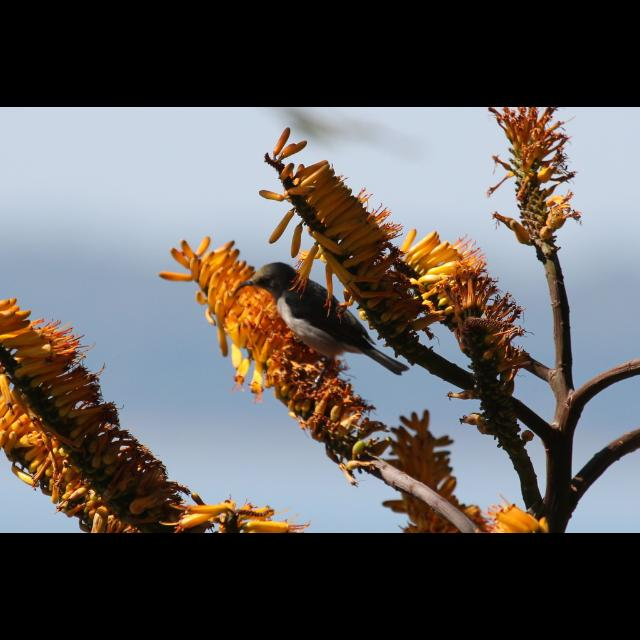Flower: (0, 297, 304, 533), (154, 232, 396, 490), (263, 125, 447, 348), (395, 228, 539, 452), (382, 411, 552, 533), (486, 107, 582, 255)
